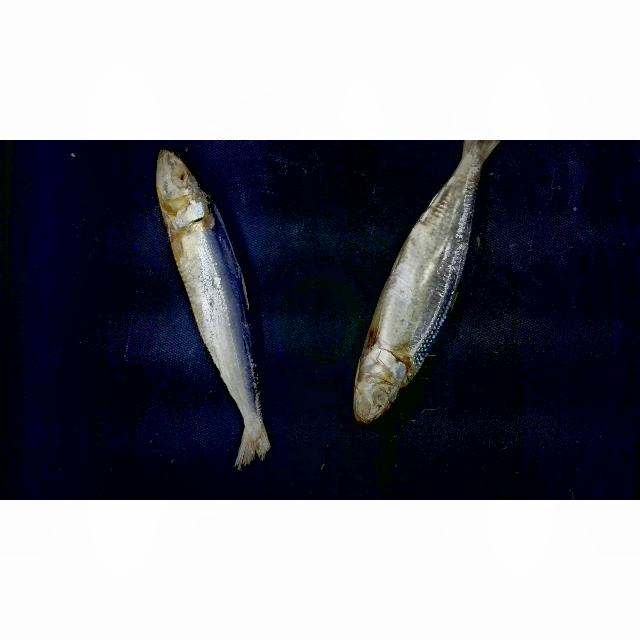Grade_A_Body: (157, 234, 275, 369), (374, 189, 482, 336)
Grade_A_Head: (351, 338, 421, 438), (142, 151, 233, 226)
Grade_A_Tail: (207, 375, 286, 483), (424, 140, 504, 178)
